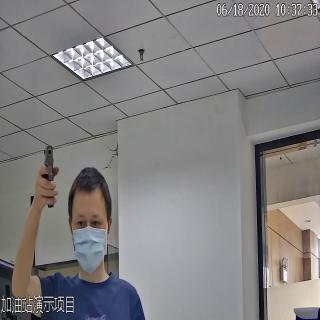gun: (38, 142, 56, 211)
